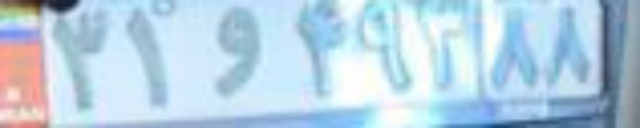1: (121, 7, 173, 107)
3: (54, 7, 112, 110), (417, 0, 473, 84)
4: (297, 2, 349, 96)
8: (490, 3, 534, 87), (546, 3, 589, 86)
9: (358, 1, 411, 91)
vav: (210, 8, 268, 95)
